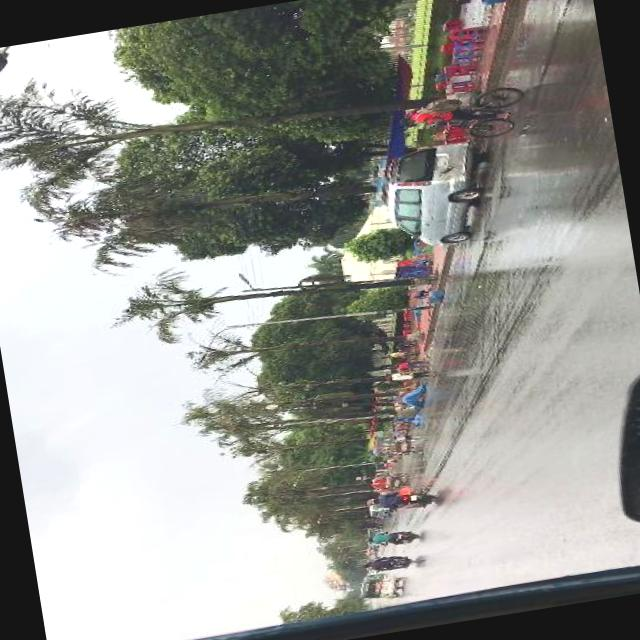motorcycle: (358, 573, 404, 602), (362, 550, 418, 573), (389, 484, 435, 510), (371, 436, 418, 460), (378, 524, 419, 546), (368, 472, 408, 492), (360, 570, 382, 580)
truck: (381, 140, 488, 253), (366, 504, 390, 520)
